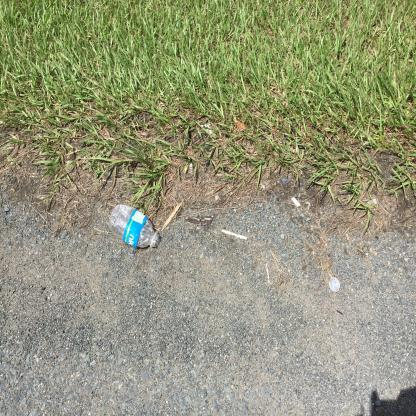trash: (123, 142, 161, 219), (130, 294, 142, 332), (96, 352, 123, 366), (156, 387, 166, 403)
